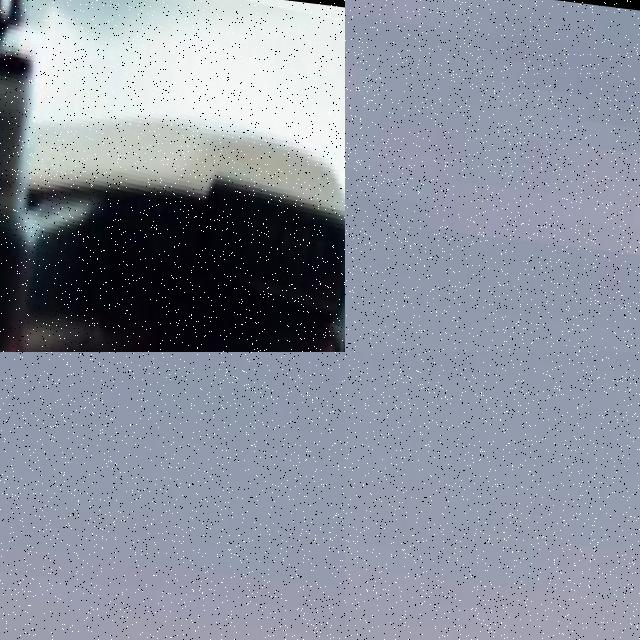drone: (0, 0, 345, 352)
